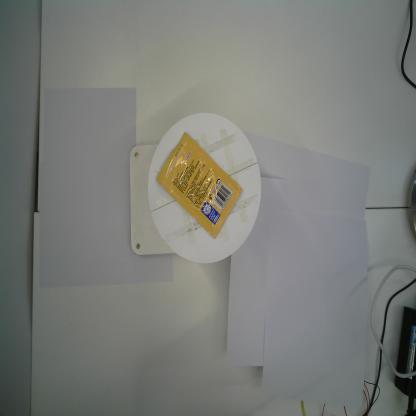Seasoner: (154, 131, 244, 240)
